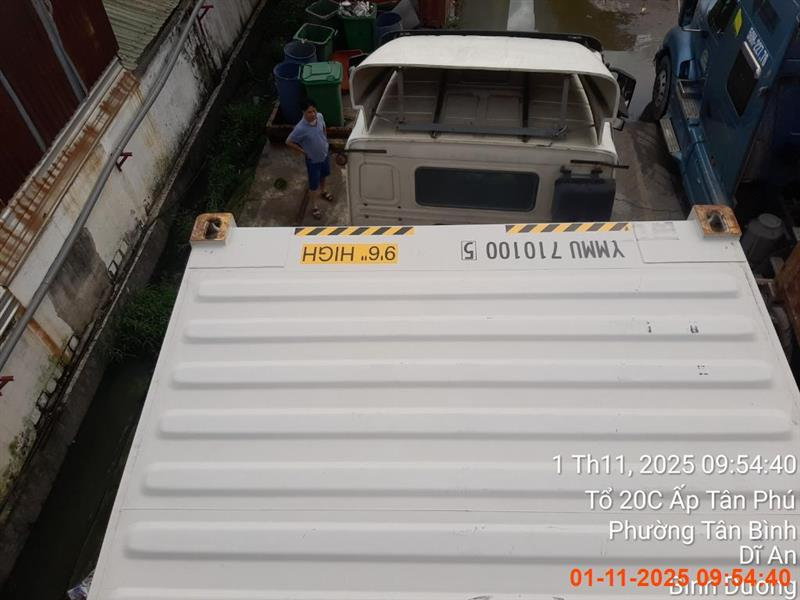broken: (85, 206, 800, 598), (341, 30, 633, 225), (648, 0, 798, 221), (285, 99, 335, 219)
